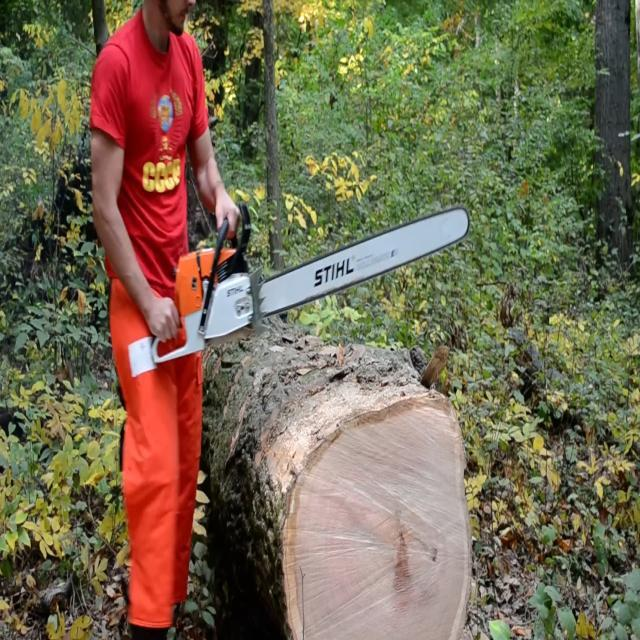Chainsaw: (128, 196, 482, 370)
